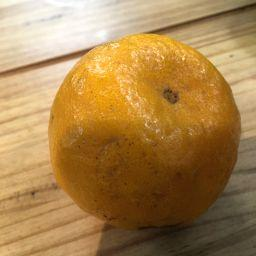Unripe: (49, 35, 240, 227)
